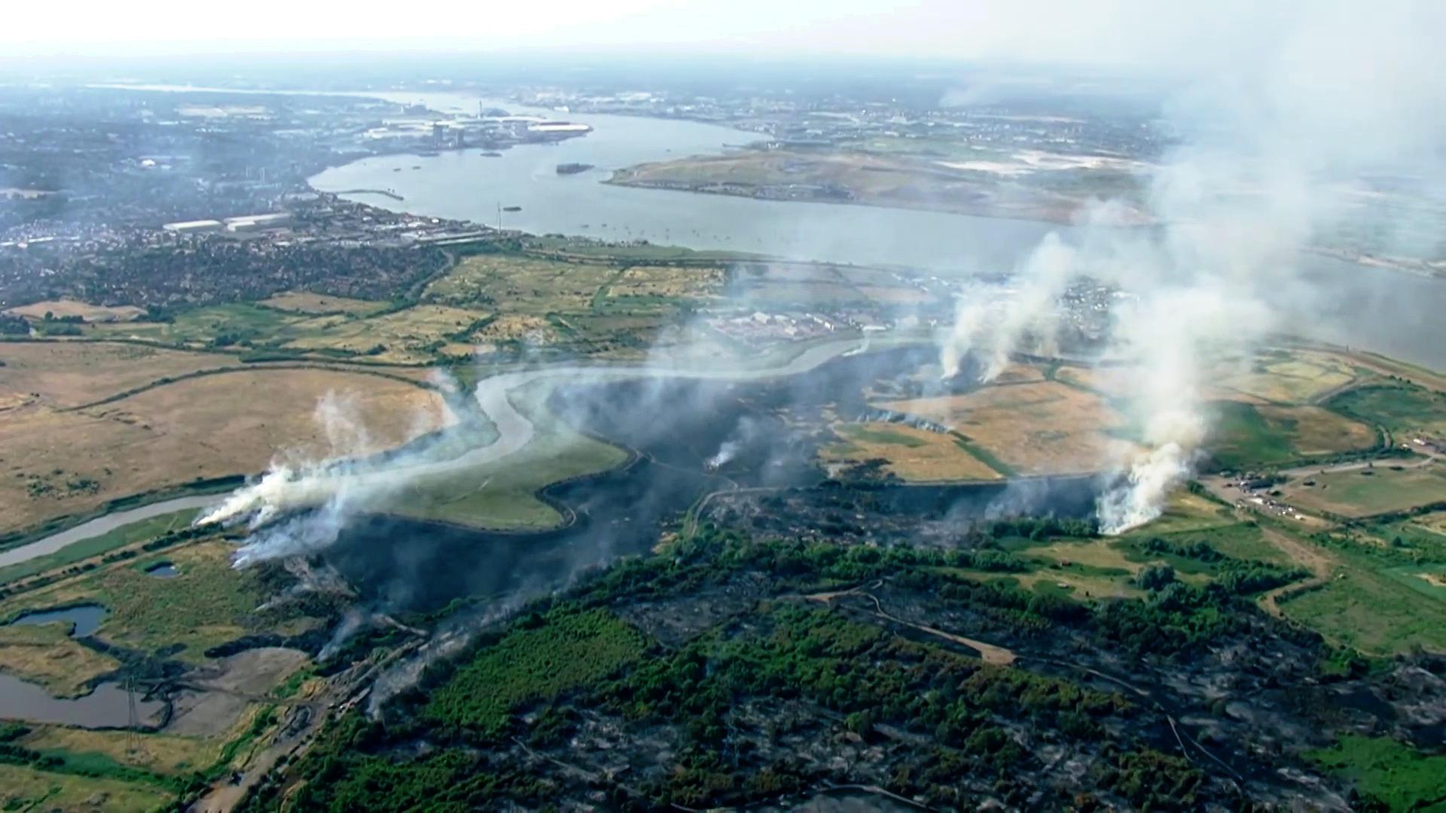smoke: (1130, 397, 1206, 517)
